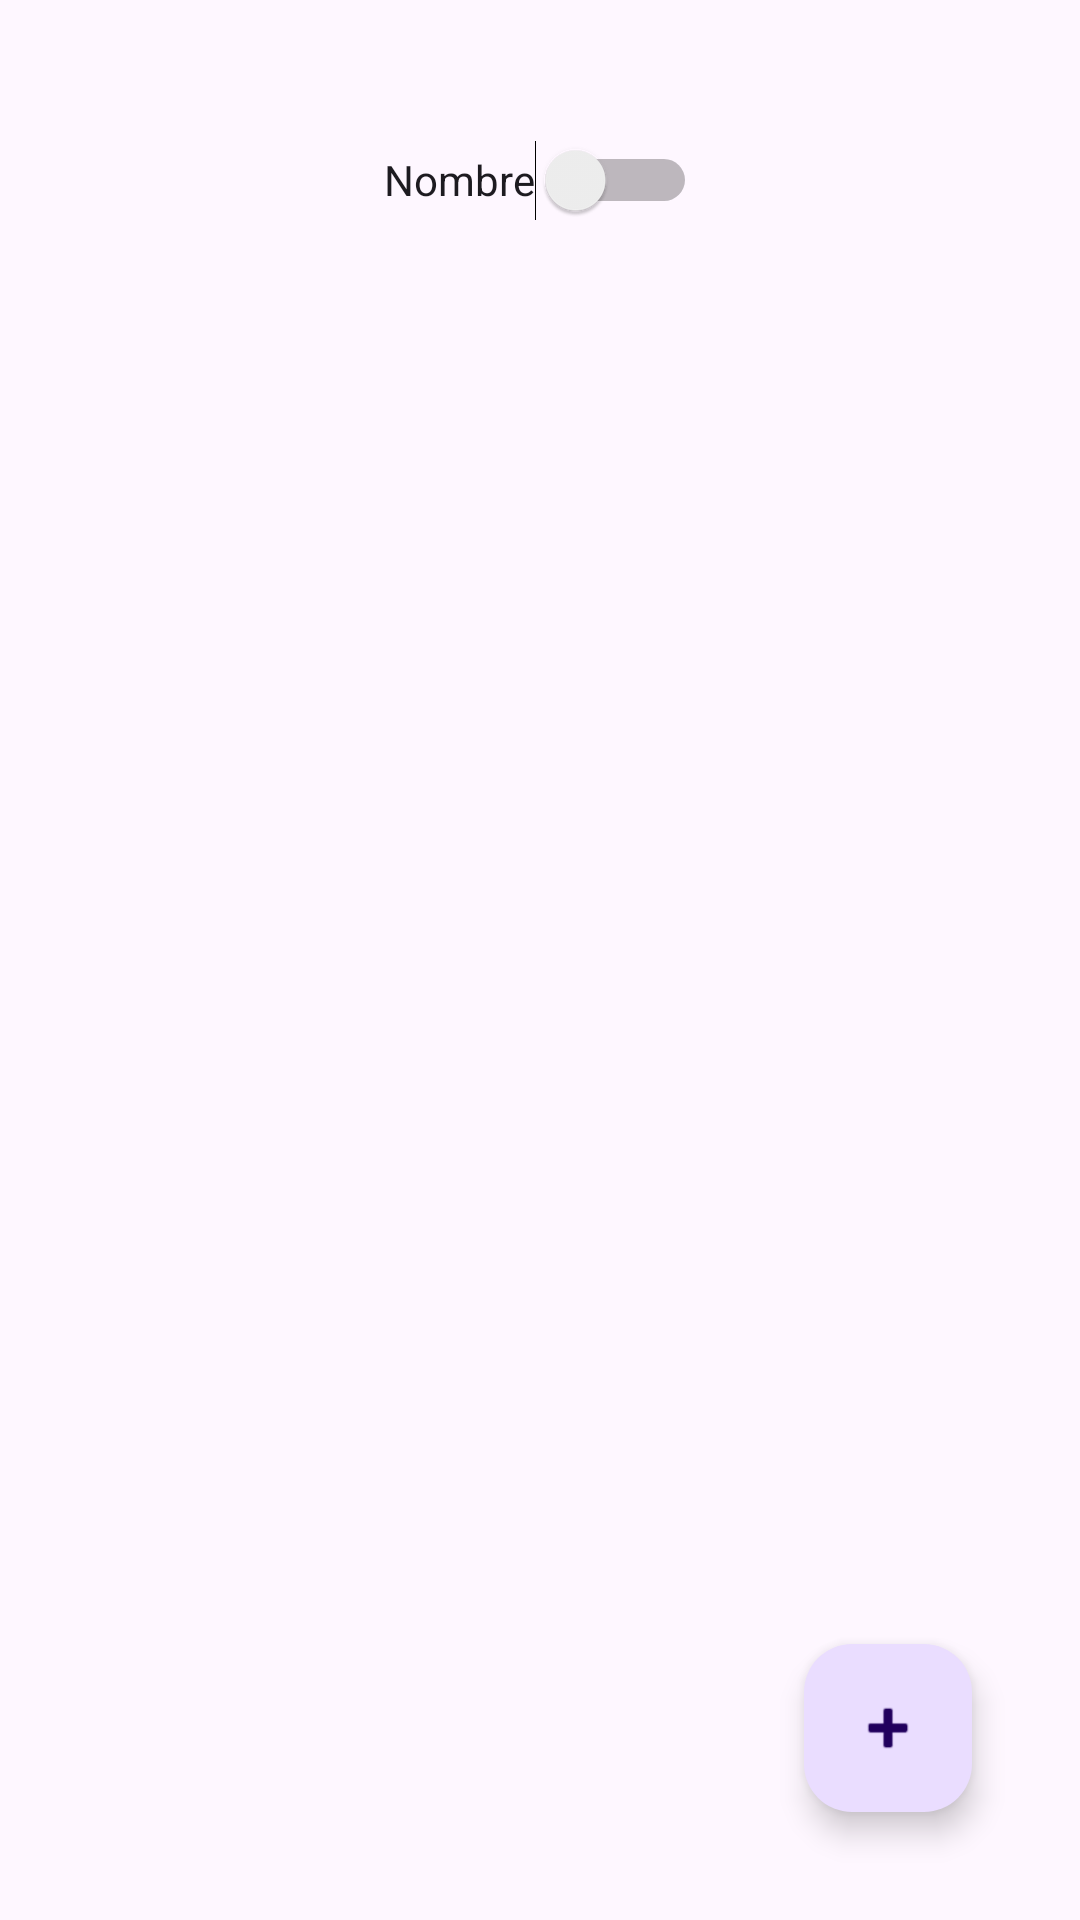

Screen size 1080*1920. Icon name, then its center in pixels as (x=x, y=y):
add: (x=888, y=1728)
